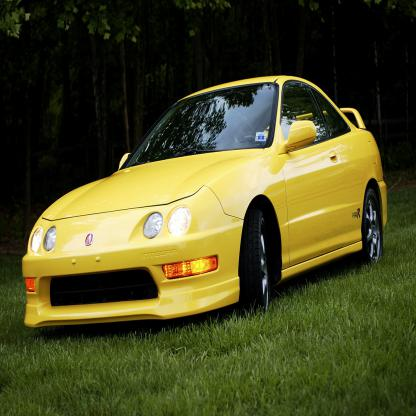Vehicle: (23, 75, 389, 327)
